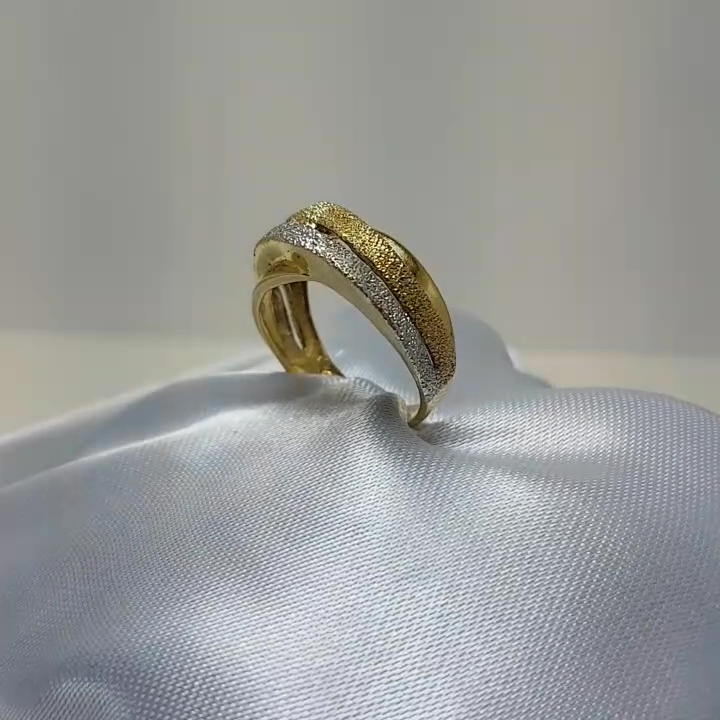Ring 5: (228, 186, 466, 457)
